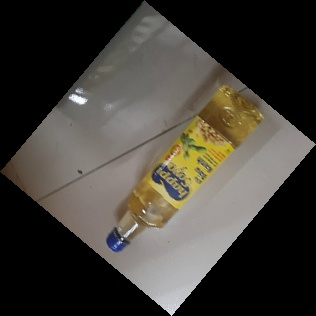Happy Soya: (105, 85, 267, 254)
